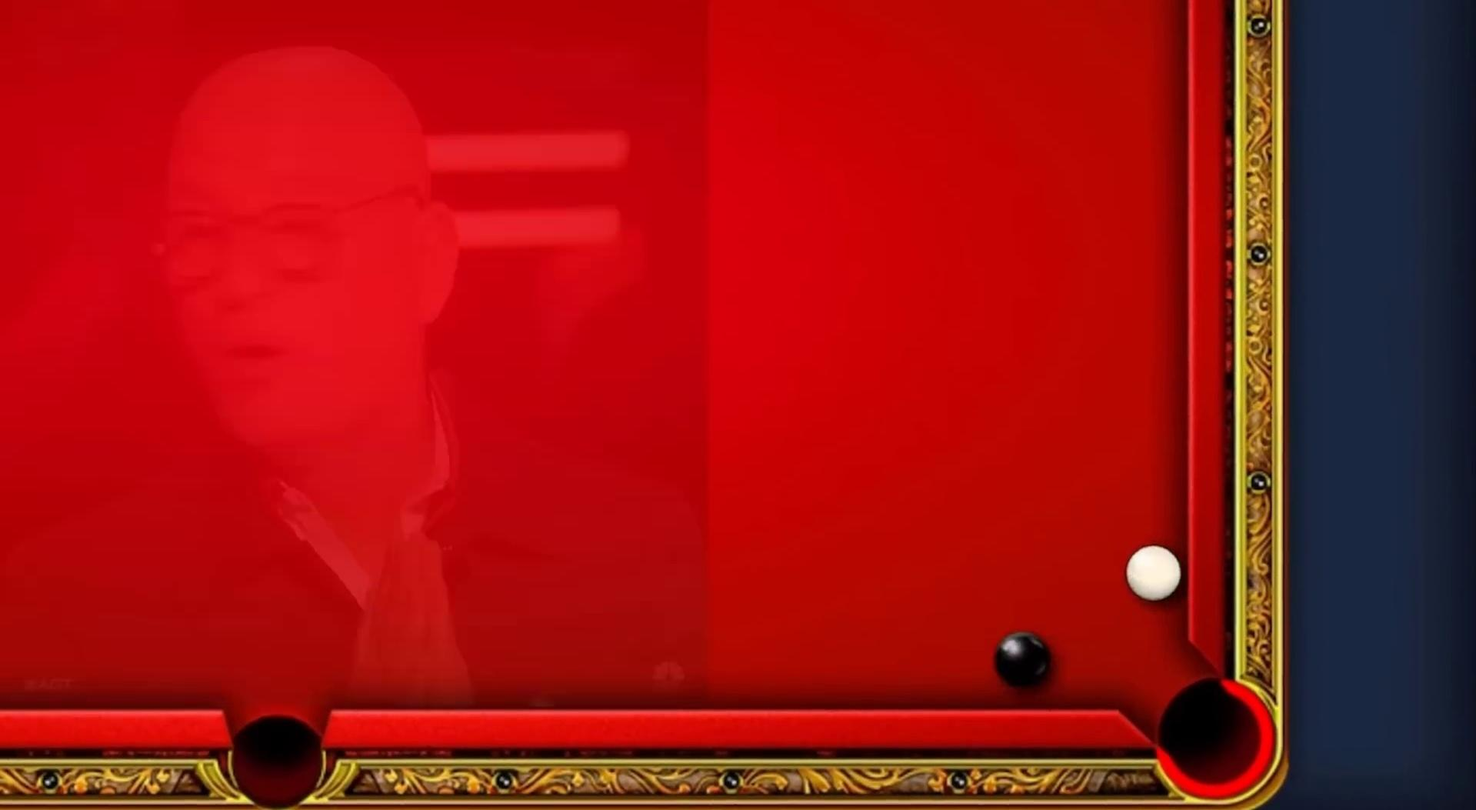Ball: (981, 622, 1069, 702)
Hole: (1138, 654, 1292, 810), (211, 691, 345, 810)
White: (1123, 536, 1189, 608)
